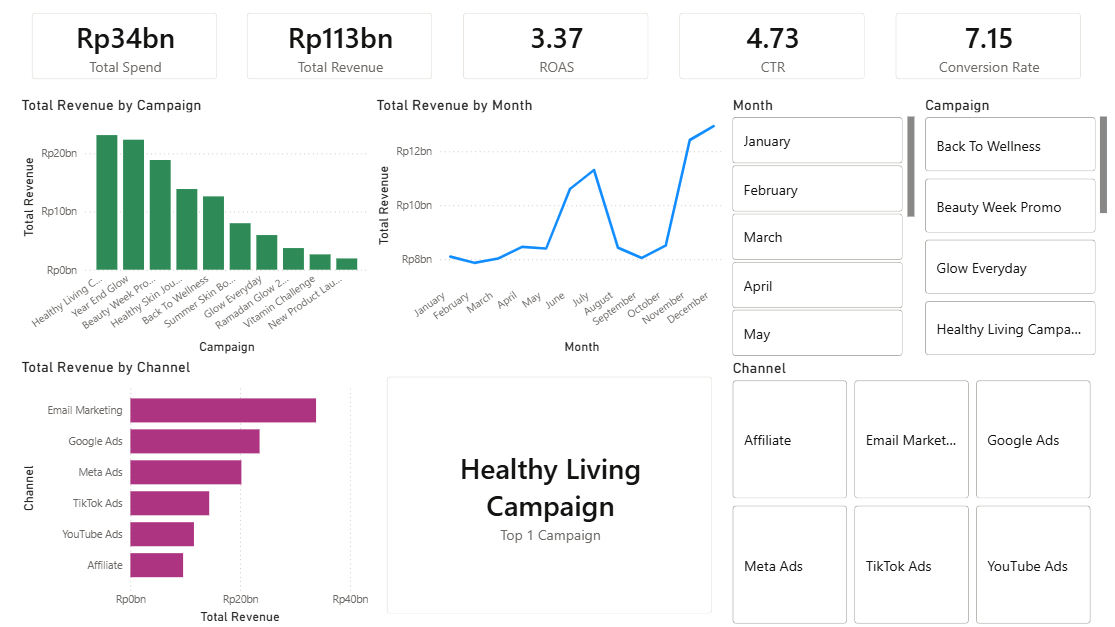

The page's visual inventory and layout, read from the dashboard file:
{"tool":"powerbi","page":{"name":"Excecutive Overview","canvas":[1280,720],"ordinal":0},"visuals":[{"type":"cardVisual","fields":{"Data":["daily_metrics.ROAS"]},"box":[516,0,246.8,110.8],"z":0},{"type":"cardVisual","fields":{"Data":["daily_metrics.CTR"]},"box":[762.8,0,246.8,110.8],"z":1000},{"type":"cardVisual","fields":{"Data":["daily_metrics.Conversion Rate"]},"box":[1009.6,0,246.8,110.8],"z":2000},{"type":"cardVisual","fields":{"Data":["daily_metrics.Total Revenue"]},"box":[269.2,0,246.8,110.8],"z":3000},{"type":"cardVisual","fields":{"Data":["daily_metrics.Total Spend"]},"box":[22.4,0,246.8,110.8],"z":4000},{"type":"columnChart","fields":{"Category":["campaigns.Campaign"],"Y":["daily_metrics.Total Revenue"]},"box":[22.4,110.8,406.7,300.1],"z":5000},{"type":"barChart","fields":{"Category":["channels.Channel"],"Y":["daily_metrics.Total Revenue"]},"box":[22.4,410.9,406.7,308.5],"z":6000},{"type":"lineChart","fields":{"Category":["daily_metrics.metric_date.Variation.Date Hierarchy.Month"],"Y":["daily_metrics.Total Revenue"]},"box":[429.1,110.8,406.7,300.1],"z":7000},{"type":"advancedSlicerVisual","fields":{"Values":["channels.Channel"]},"box":[836.2,412.5,420,307.5],"z":8000},{"type":"advancedSlicerVisual","fields":{"Values":["daily_metrics.metric_date.Variation.Date Hierarchy.Month"]},"box":[836.2,111.2,218.8,303.8],"z":9000},{"type":"advancedSlicerVisual","fields":{"Values":["campaigns.Campaign"]},"box":[1055,111.2,218.8,303.8],"z":10000},{"type":"cardVisual","fields":{"Data":["Min(campaigns.Campaign)"]},"box":[428.3,415,406.7,305],"z":11000}]}

Visuals, with their boxes in screenshot pixels (x1, y1, x2, y2), scaled from the page's 1280x720 canvas onto the 1115x627 screenshot:
cardVisual - daily_metrics.ROAS: [449, 0, 664, 96]
cardVisual - daily_metrics.CTR: [664, 0, 879, 96]
cardVisual - daily_metrics.Conversion Rate: [879, 0, 1094, 96]
cardVisual - daily_metrics.Total Revenue: [234, 0, 449, 96]
cardVisual - daily_metrics.Total Spend: [20, 0, 234, 96]
columnChart - campaigns.Campaign x daily_metrics.Total Revenue: [20, 96, 374, 358]
barChart - channels.Channel x daily_metrics.Total Revenue: [20, 358, 374, 626]
lineChart - daily_metrics.metric_date.Variation.Date Hierarchy.Month x daily_metrics.Total Revenue: [374, 96, 728, 358]
advancedSlicerVisual - channels.Channel: [728, 359, 1094, 626]
advancedSlicerVisual - daily_metrics.metric_date.Variation.Date Hierarchy.Month: [728, 97, 919, 361]
advancedSlicerVisual - campaigns.Campaign: [919, 97, 1110, 361]
cardVisual - Min(campaigns.Campaign): [373, 361, 727, 626]
